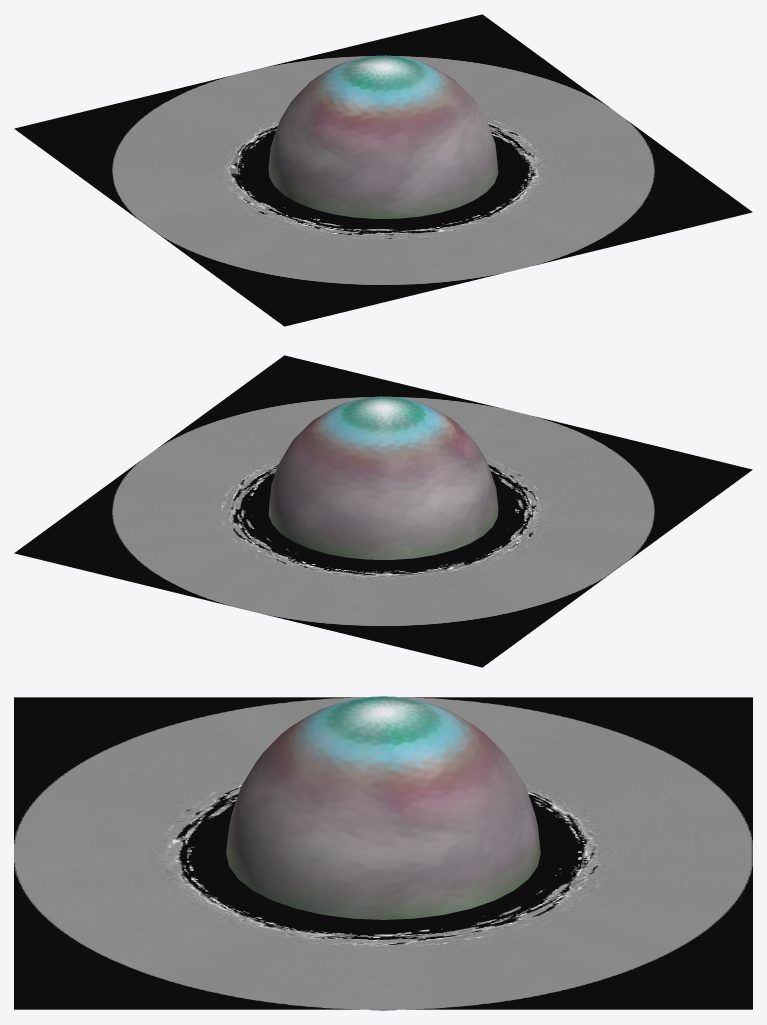
Rendered from playerplanet.dae.
3 renders of one model, top to bottom at view 1: azimuth 30°, elevation 25°; view 2: azimuth 150°, elevation 25°; view 3: azimuth 270°, elevation 25°, orthographic. The views are drawn at different scales.
Parts seen in each view (by area): view 1: Plane, Sphere; view 2: Plane, Sphere; view 3: Plane, Sphere.
Part boxes in pixels (box(x1,y1,x2,y2)): Plane: box(14, 14, 752, 326); Sphere: box(268, 55, 498, 218); Plane: box(14, 355, 752, 667); Sphere: box(268, 396, 498, 559); Plane: box(14, 697, 752, 1009); Sphere: box(226, 696, 540, 1010).
Size of the model in its own units: 4.7 by 4.7 by 2.
Materials: 2 (2 with a texture image).
